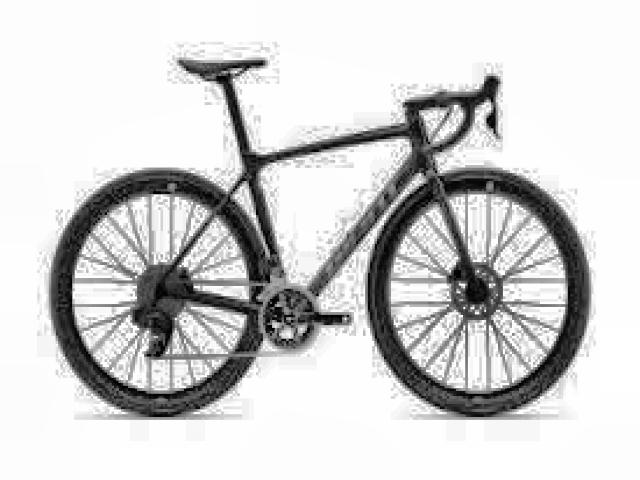cassette: (136, 260, 187, 316)
cranks_set: (256, 283, 352, 354)
rear_derailleur: (128, 302, 176, 361)
saddle: (169, 53, 268, 80)
sti_shifter: (482, 70, 508, 142)
wheel: (361, 166, 595, 422), (45, 165, 272, 420)
